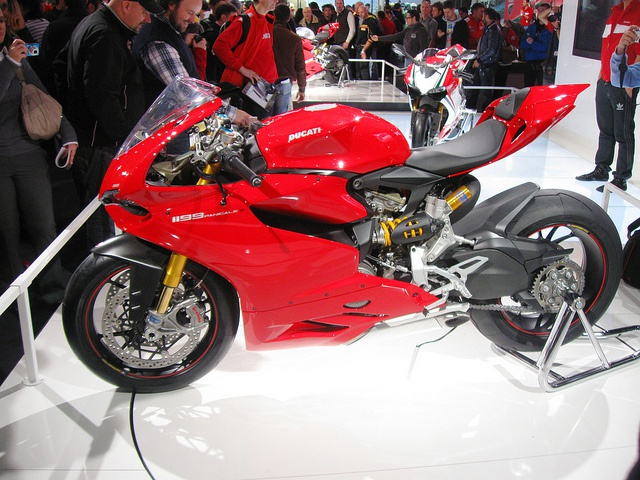non-vehicle: (59, 76, 633, 387), (390, 44, 475, 145), (294, 21, 350, 87)
